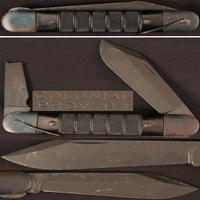knife: (92, 31, 199, 131), (1, 135, 200, 172), (2, 169, 200, 197)
